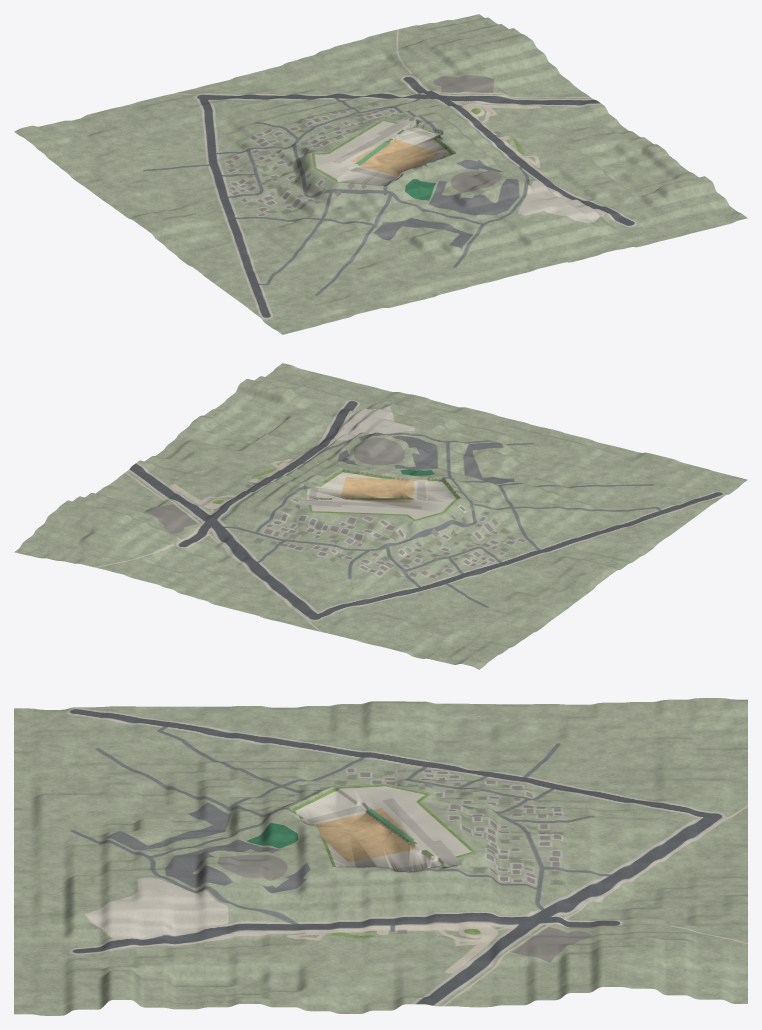
3 views of the same model, one above another, from view 1: azimuth 30°, elevation 25°; view 2: azimuth 150°, elevation 25°; view 3: azimuth 270°, elevation 25° (orthographic). The views are drawn at different scales.
Visible parts, largest first — view 1: ground-area, ground-school; view 2: ground-area, ground-school; view 3: ground-area, ground-school.
Boxes of the visible parts, <box> form: ground-area: <box>14,14,747,334</box>; ground-school: <box>255,108,501,222</box>; ground-area: <box>14,363,747,669</box>; ground-school: <box>256,448,505,564</box>; ground-area: <box>14,698,747,1015</box>; ground-school: <box>262,784,502,892</box>.
Size of the model in its own units: 688 by 41.42 by 688.
Materials: 2 (2 with a texture image).
